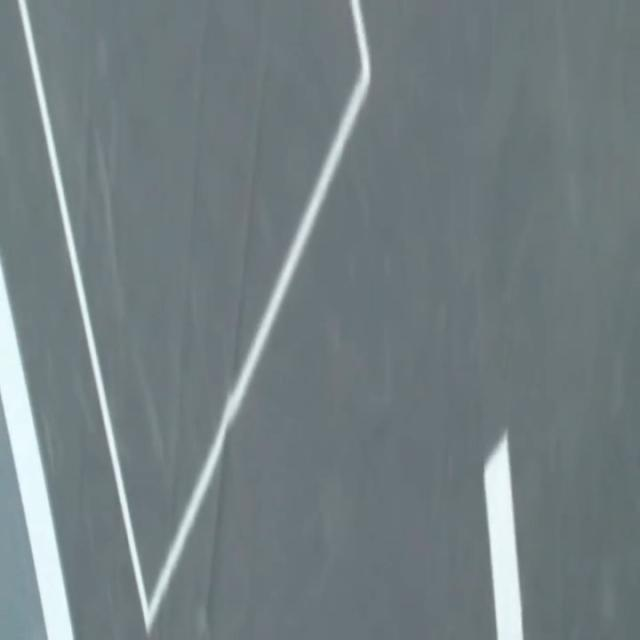center: (484, 431, 523, 639)
left: (0, 257, 73, 639)
